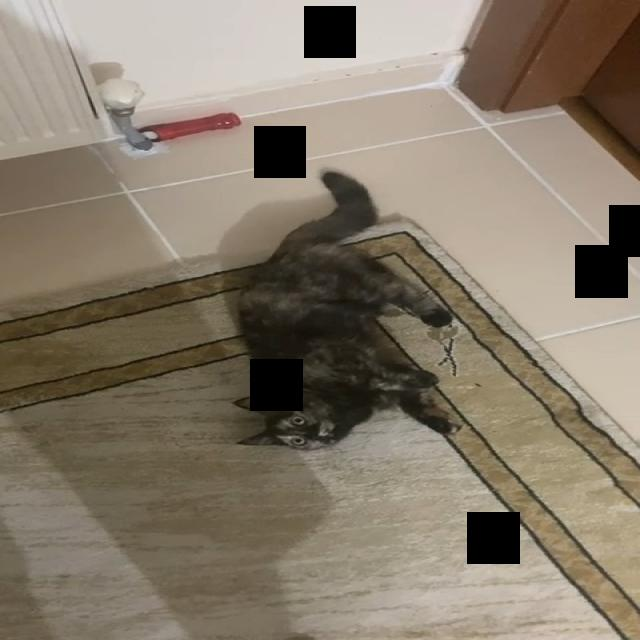authorized: (229, 168, 462, 451)
